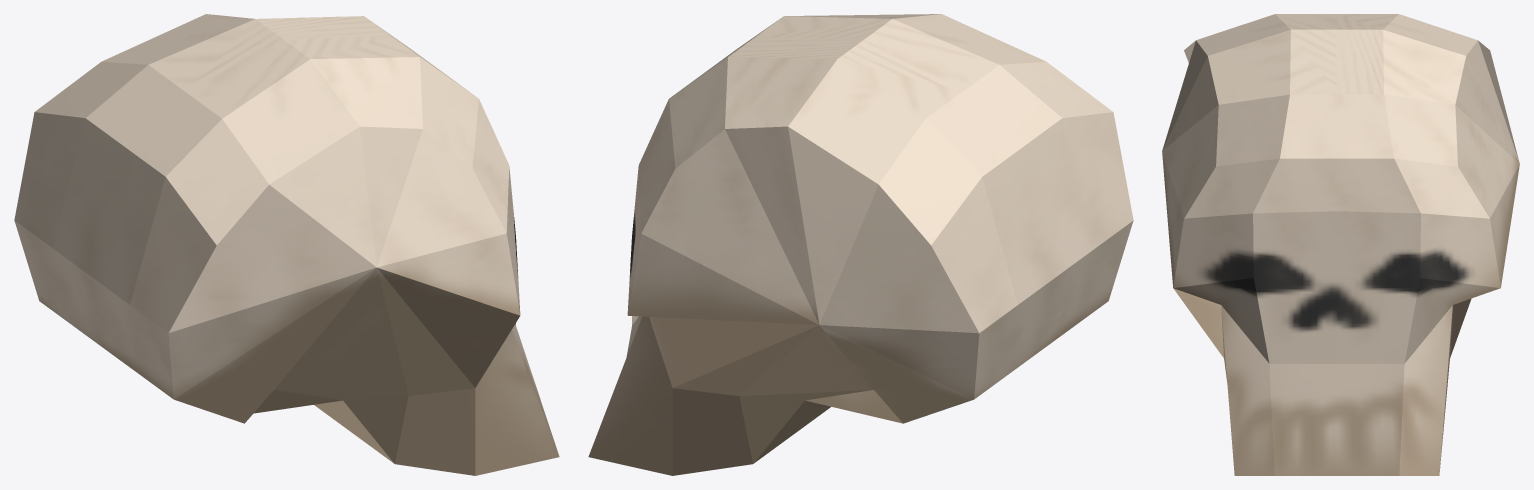
File: Prop_Skull.fbx
3 views of the same model, side by side, from view 1: azimuth 30°, elevation 25°; view 2: azimuth 150°, elevation 25°; view 3: azimuth 270°, elevation 25° (orthographic). The views are drawn at different scales.
Visible parts, largest first — view 1: First_Tries:pCube4; view 2: First_Tries:pCube4; view 3: First_Tries:pCube4.
Boxes of the visible parts, x1=… form: First_Tries:pCube4: x1=14, y1=14, x2=559, y2=475; First_Tries:pCube4: x1=588, y1=14, x2=1133, y2=475; First_Tries:pCube4: x1=1162, y1=14, x2=1519, y2=475.
Size of the model in its own units: 0.00448 by 0.00448 by 0.00406.
